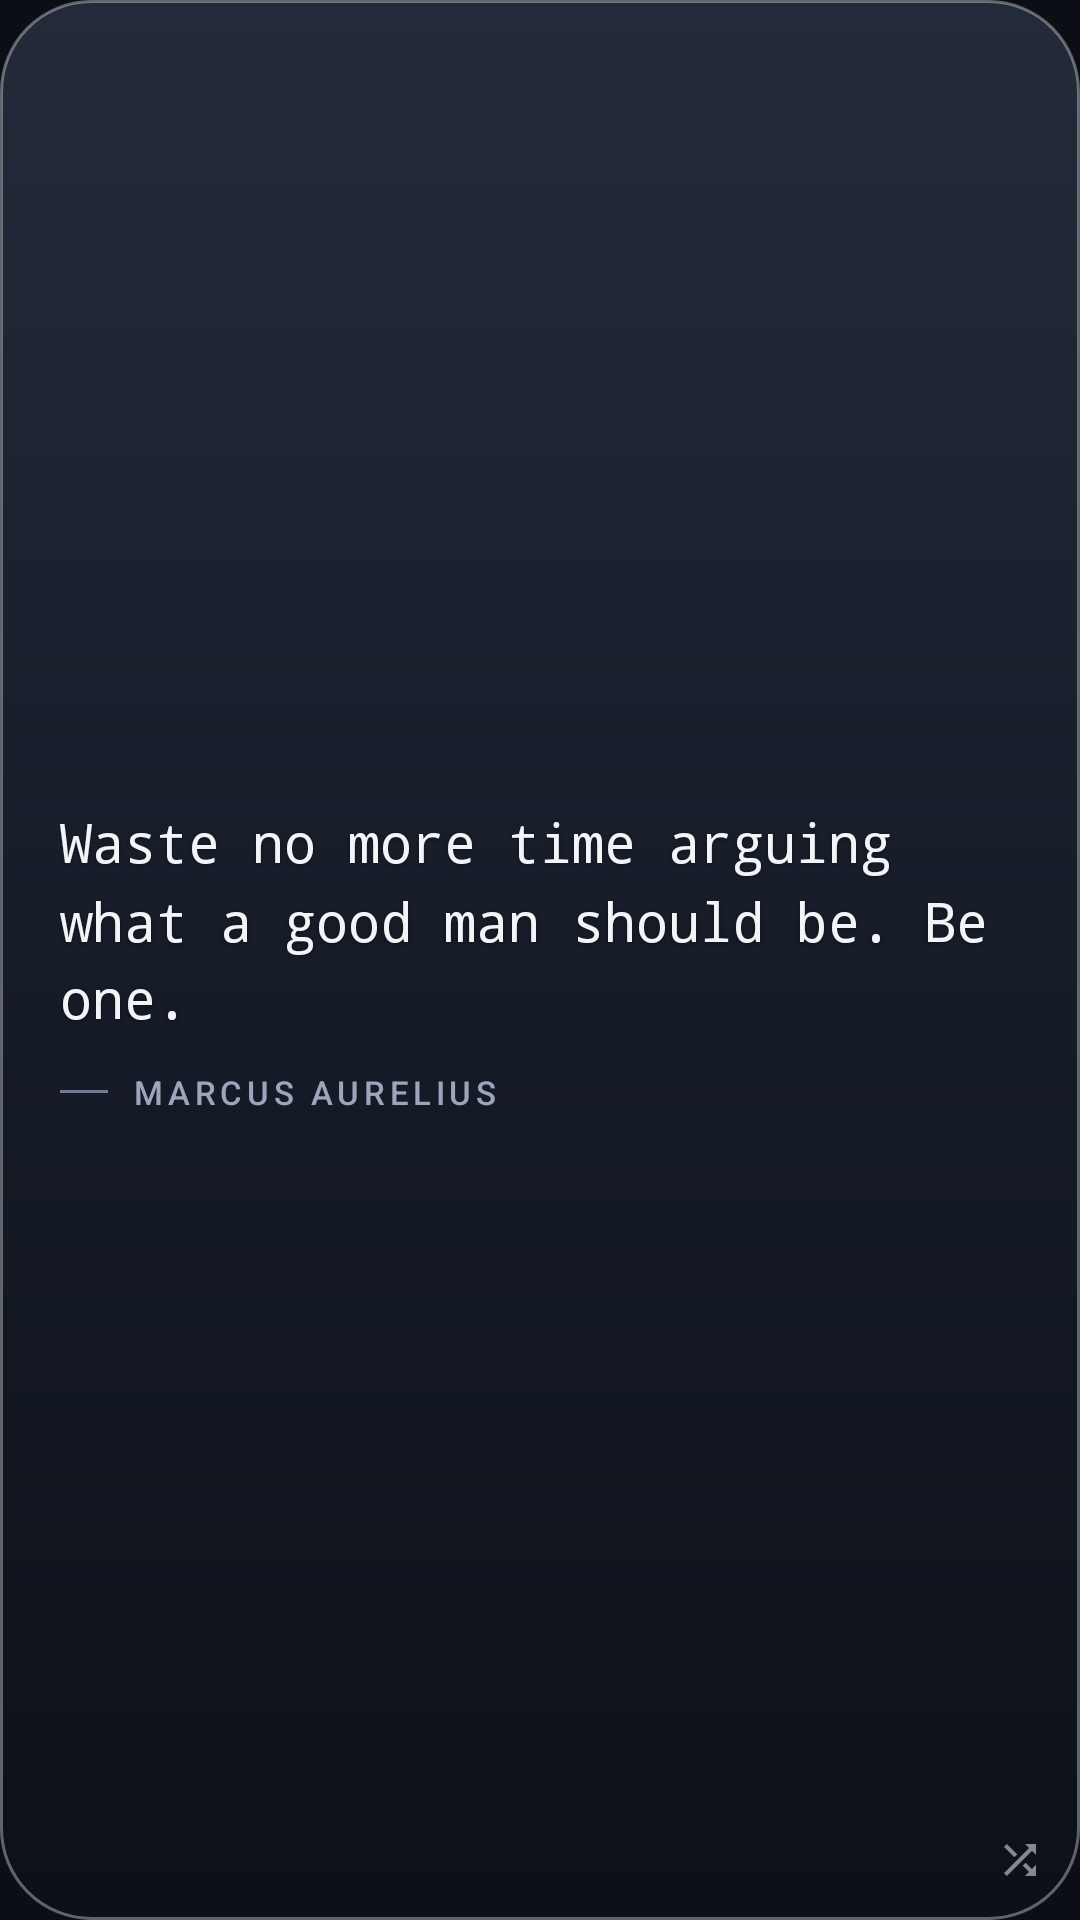

Icon bounding boxes for this 1080px x 1920px phone screenshot, format (x1, y1, x2, y2):
Show another quote: (1004, 1844, 1036, 1876)
